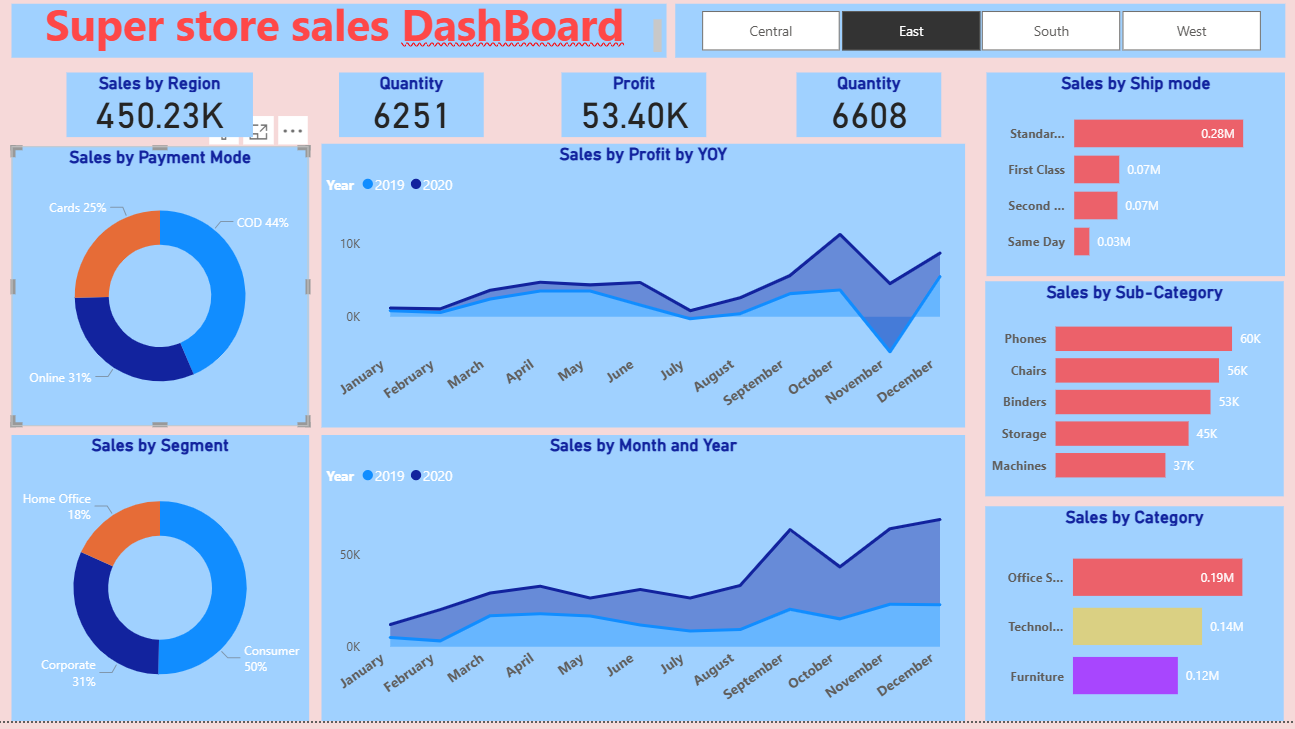

This screenshot's page, from the dashboard's own definition file:
{"tool":"powerbi","page":{"name":"Page 1","canvas":[1280,720],"ordinal":0},"visuals":[{"type":"clusteredBarChart","title":"Sales by Category","fields":{"Category":["SuperStore_Sales_Dataset.Category"],"Y":["Sum(SuperStore_Sales_Dataset.Sales)"]},"box":[969.7,509.9,292.3,210.3],"z":0},{"type":"clusteredBarChart","title":"Sales by Sub-Category","fields":{"Category":["SuperStore_Sales_Dataset.Sub-Category"],"Y":["Sum(SuperStore_Sales_Dataset.Sales)"]},"box":[969.7,289.8,292.3,210.3],"z":1000},{"type":"clusteredBarChart","title":"Sales by Ship mode ","fields":{"Y":["Sum(SuperStore_Sales_Dataset.Sales)"],"Category":["SuperStore_Sales_Dataset.Ship Mode"]},"box":[970.9,85.6,292.3,199.3],"z":2000},{"type":"stackedAreaChart","title":"Sales by Month and Year","fields":{"Y":["Sum(SuperStore_Sales_Dataset.Sales)"],"Category":["SuperStore_Sales_Dataset.Order Date.Variation.Date Hierarchy.Month","SuperStore_Sales_Dataset.Order Date.Variation.Date Hierarchy.Day"],"Series":["SuperStore_Sales_Dataset.Order Date.Variation.Date Hierarchy.Year"]},"box":[320.4,440.2,629.8,280],"z":3000},{"type":"stackedAreaChart","title":"Sales by Profit by YOY","fields":{"Category":["SuperStore_Sales_Dataset.Order Date.Variation.Date Hierarchy.Month","SuperStore_Sales_Dataset.Order Date.Variation.Date Hierarchy.Day"],"Series":["SuperStore_Sales_Dataset.Order Date.Variation.Date Hierarchy.Year"],"Y":["Sum(SuperStore_Sales_Dataset.Profit)"]},"box":[320.4,155.3,629.8,277.6],"z":4000},{"type":"donutChart","title":" Sales by Segment","fields":{"Category":["SuperStore_Sales_Dataset.Segment"],"Y":["Sum(SuperStore_Sales_Dataset.Sales)"]},"box":[17.1,440.2,291,280],"z":5000},{"type":"donutChart","title":"Sales by Payment Mode","fields":{"Category":["SuperStore_Sales_Dataset.Payment Mode"],"Y":["Sum(SuperStore_Sales_Dataset.Sales)"]},"box":[17.1,157.7,291,273.9],"z":6000},{"type":"slicer","fields":{"Values":["SuperStore_Sales_Dataset.Region"]},"box":[666.4,18.3,596.7,52.6],"z":7000},{"type":"textbox","box":[17.1,18.3,640.8,52.6],"z":8000},{"type":"kpi","title":" Sales by Region","fields":{"Indicator":["Sum(SuperStore_Sales_Dataset.Sales)"],"TrendLine":["SuperStore_Sales_Dataset.Region"]},"box":[70.9,85.6,182.2,63.6],"z":9000},{"type":"kpi","title":"Quantity","fields":{"Indicator":["Sum(SuperStore_Sales_Dataset.Quantity)"],"TrendLine":["SuperStore_Sales_Dataset.Region"]},"box":[337.5,85.6,141.8,63.6],"z":10000},{"type":"kpi","title":"Profit","fields":{"TrendLine":["SuperStore_Sales_Dataset.Region"],"Indicator":["Sum(SuperStore_Sales_Dataset.Profit)"]},"box":[555.2,85.6,141.8,63.6],"z":11000},{"type":"kpi","title":"Quantity","fields":{"Indicator":["Sum(SuperStore_Sales_Dataset.Avgdelivery)"],"TrendLine":["SuperStore_Sales_Dataset.Region"]},"box":[785.1,85.6,141.8,63.6],"z":12000}]}

Visuals, with their boxes in screenshot pixels (x1, y1, x2, y2), scaled from the page's 1280x720 canvas onto the 1295x729 screenshot:
"Sales by Category" clusteredBarChart: pyautogui.locateOnScreen(981, 516, 1277, 728)
"Sales by Sub-Category" clusteredBarChart: pyautogui.locateOnScreen(981, 293, 1277, 506)
"Sales by Ship mode " clusteredBarChart: pyautogui.locateOnScreen(982, 87, 1278, 288)
"Sales by Month and Year" stackedAreaChart: pyautogui.locateOnScreen(324, 446, 961, 728)
"Sales by Profit by YOY" stackedAreaChart: pyautogui.locateOnScreen(324, 157, 961, 438)
" Sales by Segment" donutChart: pyautogui.locateOnScreen(17, 446, 312, 728)
"Sales by Payment Mode" donutChart: pyautogui.locateOnScreen(17, 160, 312, 437)
slicer - SuperStore_Sales_Dataset.Region: pyautogui.locateOnScreen(674, 19, 1278, 72)
textbox: pyautogui.locateOnScreen(17, 19, 666, 72)
" Sales by Region" kpi: pyautogui.locateOnScreen(72, 87, 256, 151)
"Quantity" kpi: pyautogui.locateOnScreen(341, 87, 485, 151)
"Profit" kpi: pyautogui.locateOnScreen(562, 87, 705, 151)
"Quantity" kpi: pyautogui.locateOnScreen(794, 87, 938, 151)
